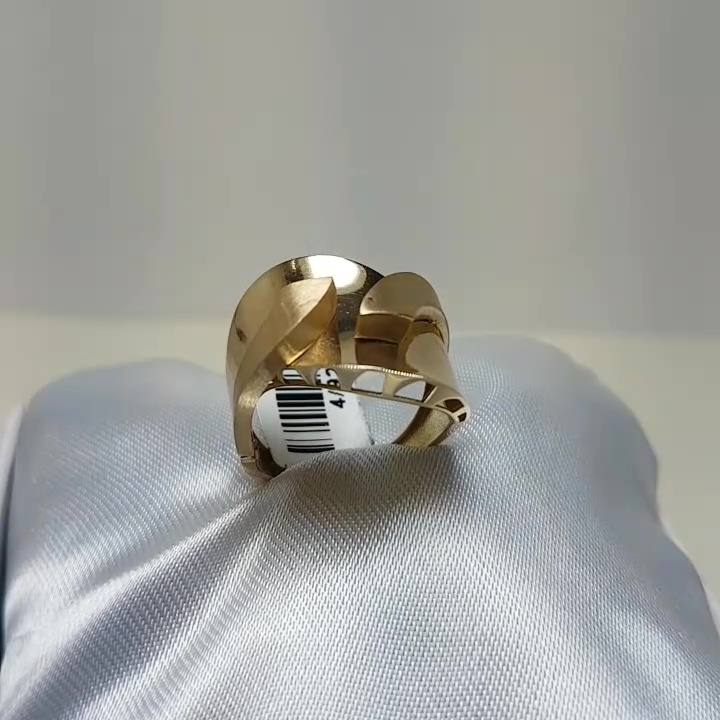Ring 4: (176, 211, 470, 487)
